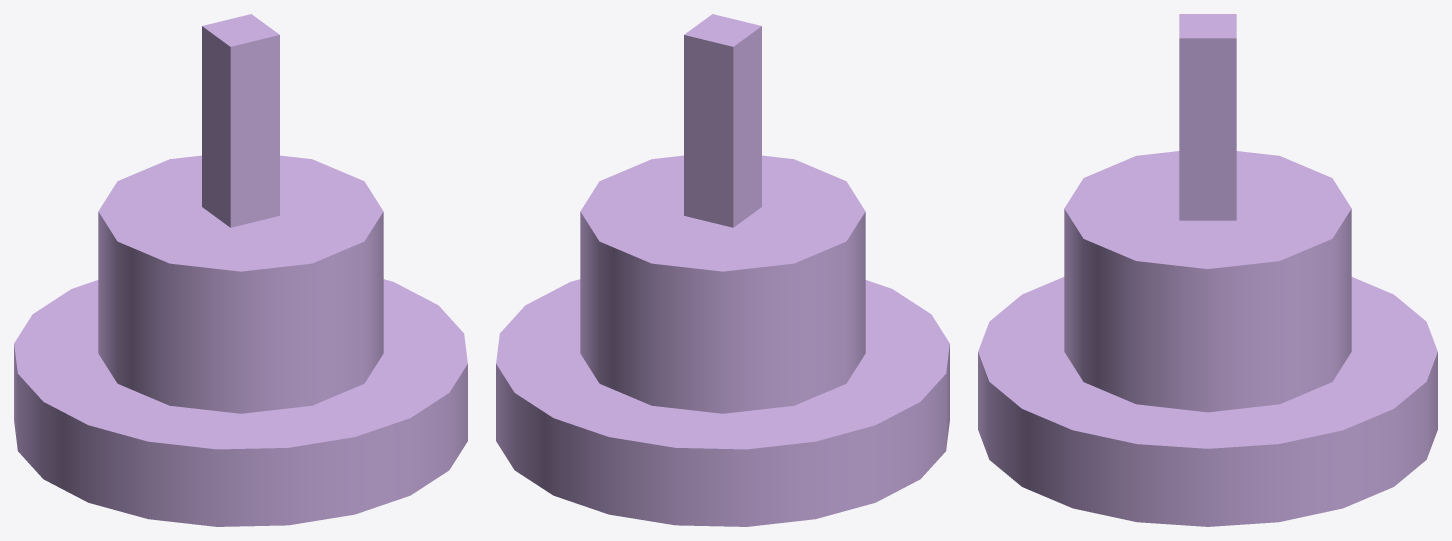
Rendered from nebula_synth.gltf.
3 renders of one model, left to right at view 1: azimuth 30°, elevation 25°; view 2: azimuth 150°, elevation 25°; view 3: azimuth 270°, elevation 25°, orthographic.
Visible parts, largest first — view 1: nebula_synth; view 2: nebula_synth; view 3: nebula_synth.
Boxes of the visible parts, box(x1,y1,x2,y2) form: nebula_synth: box(14, 14, 467, 526); nebula_synth: box(496, 14, 949, 526); nebula_synth: box(978, 14, 1437, 526).
Size of the model in its own units: 0.8 by 0.775 by 0.8.
